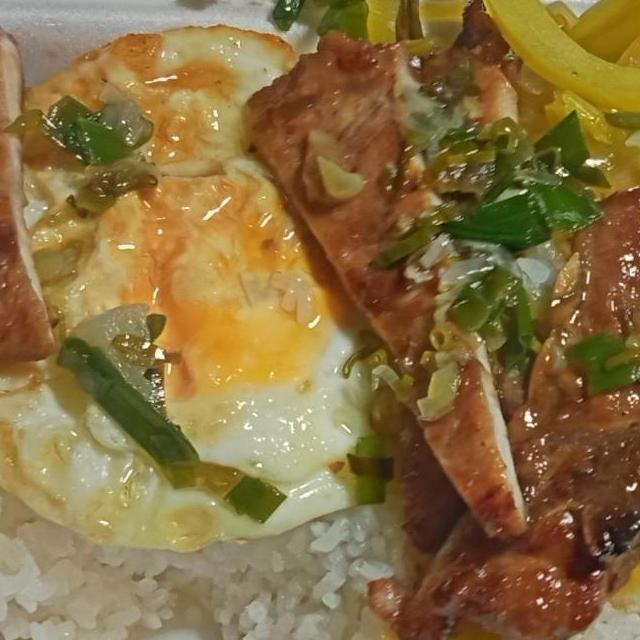com: (0, 395, 193, 640), (532, 218, 640, 640), (174, 502, 454, 640)
suon: (232, 26, 540, 553), (366, 176, 640, 640)
trung: (0, 16, 432, 556)
